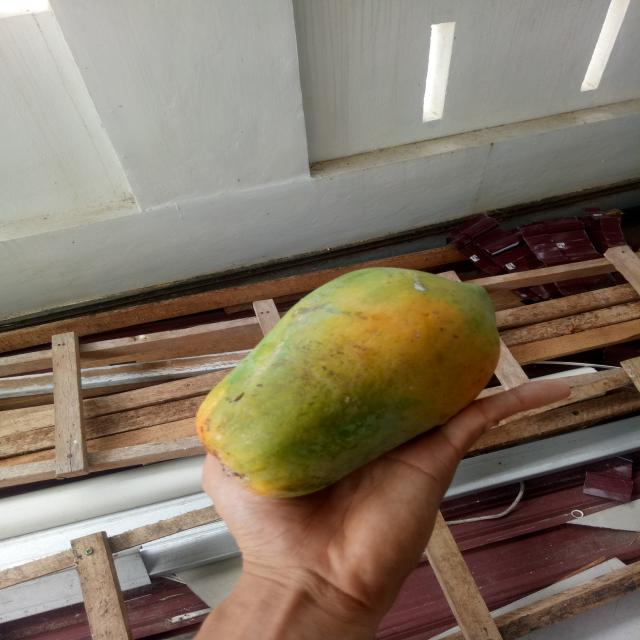Pepaya rippen: (192, 262, 502, 502)
